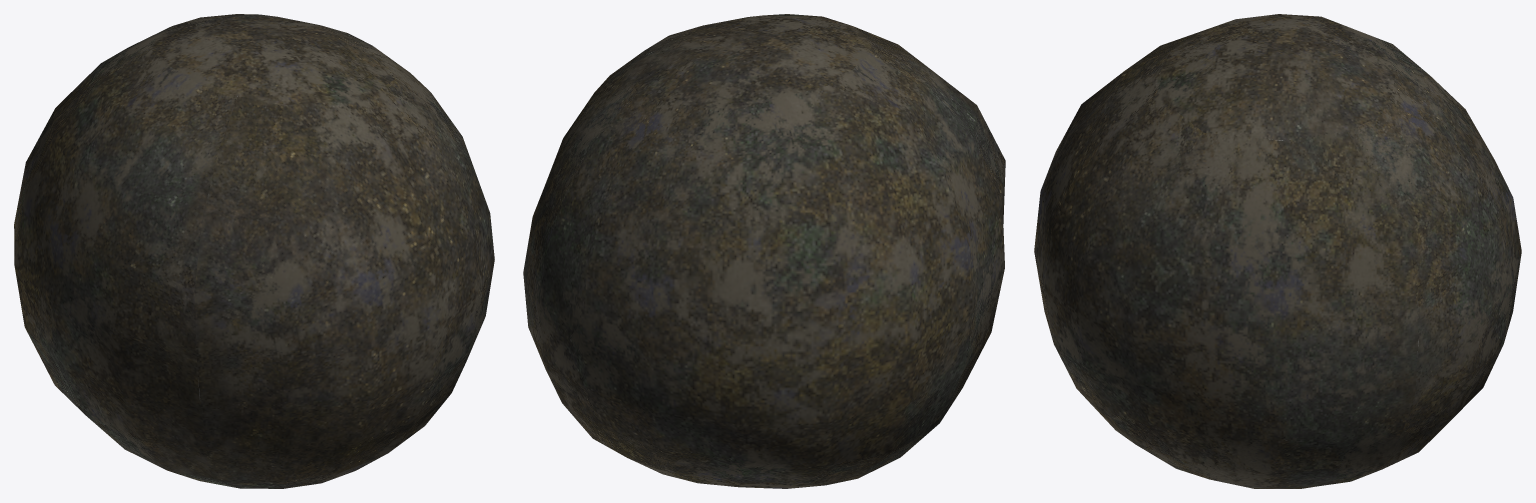
Rendered from SM_Bullet01a.fbx.
The picture shows the model from 3 angles, left to right: view 1: azimuth 30°, elevation 25°; view 2: azimuth 150°, elevation 25°; view 3: azimuth 270°, elevation 25°; orthographic projection. The views are drawn at different scales.
Visible parts, largest first — view 1: SM_Bullet01a; view 2: SM_Bullet01a; view 3: SM_Bullet01a.
Boxes of the visible parts, box(x1,y1,x2,y2) form: SM_Bullet01a: box(14, 14, 494, 488); SM_Bullet01a: box(523, 14, 1005, 488); SM_Bullet01a: box(1034, 14, 1521, 488).
Size of the model in its own units: 21.22 by 22.7 by 21.47.
Materials: 1 (1 with a texture image).
